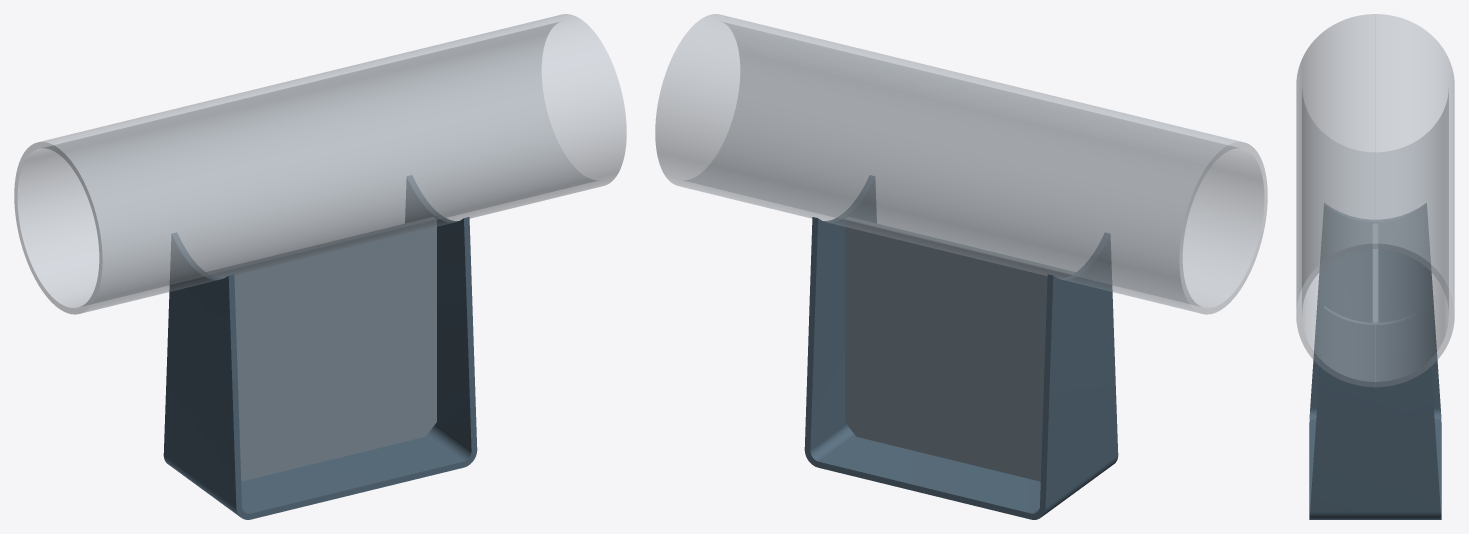
Rendered from TS-623.000-07-opora-dn108-H150-L170.glb.
3 views of the same model, side by side, from view 1: azimuth 30°, elevation 25°; view 2: azimuth 150°, elevation 25°; view 3: azimuth 270°, elevation 25° (orthographic). The views are drawn at different scales.
Parts seen in each view (by area): view 1: truba, rebro, skoba; view 2: truba, rebro, skoba; view 3: truba, skoba, rebro.
Part boxes in pixels (x1,y1,x2,y2): truba: (14,14,626,314); rebro: (206,217,436,481); skoba: (163,175,477,519); truba: (655,14,1267,314); rebro: (845,217,1075,481); skoba: (804,175,1118,519); truba: (1296,14,1454,387); skoba: (1309,203,1441,519); rebro: (1372,224,1378,322).
Bounding box in the file's own units: 370 × 258 × 108.
